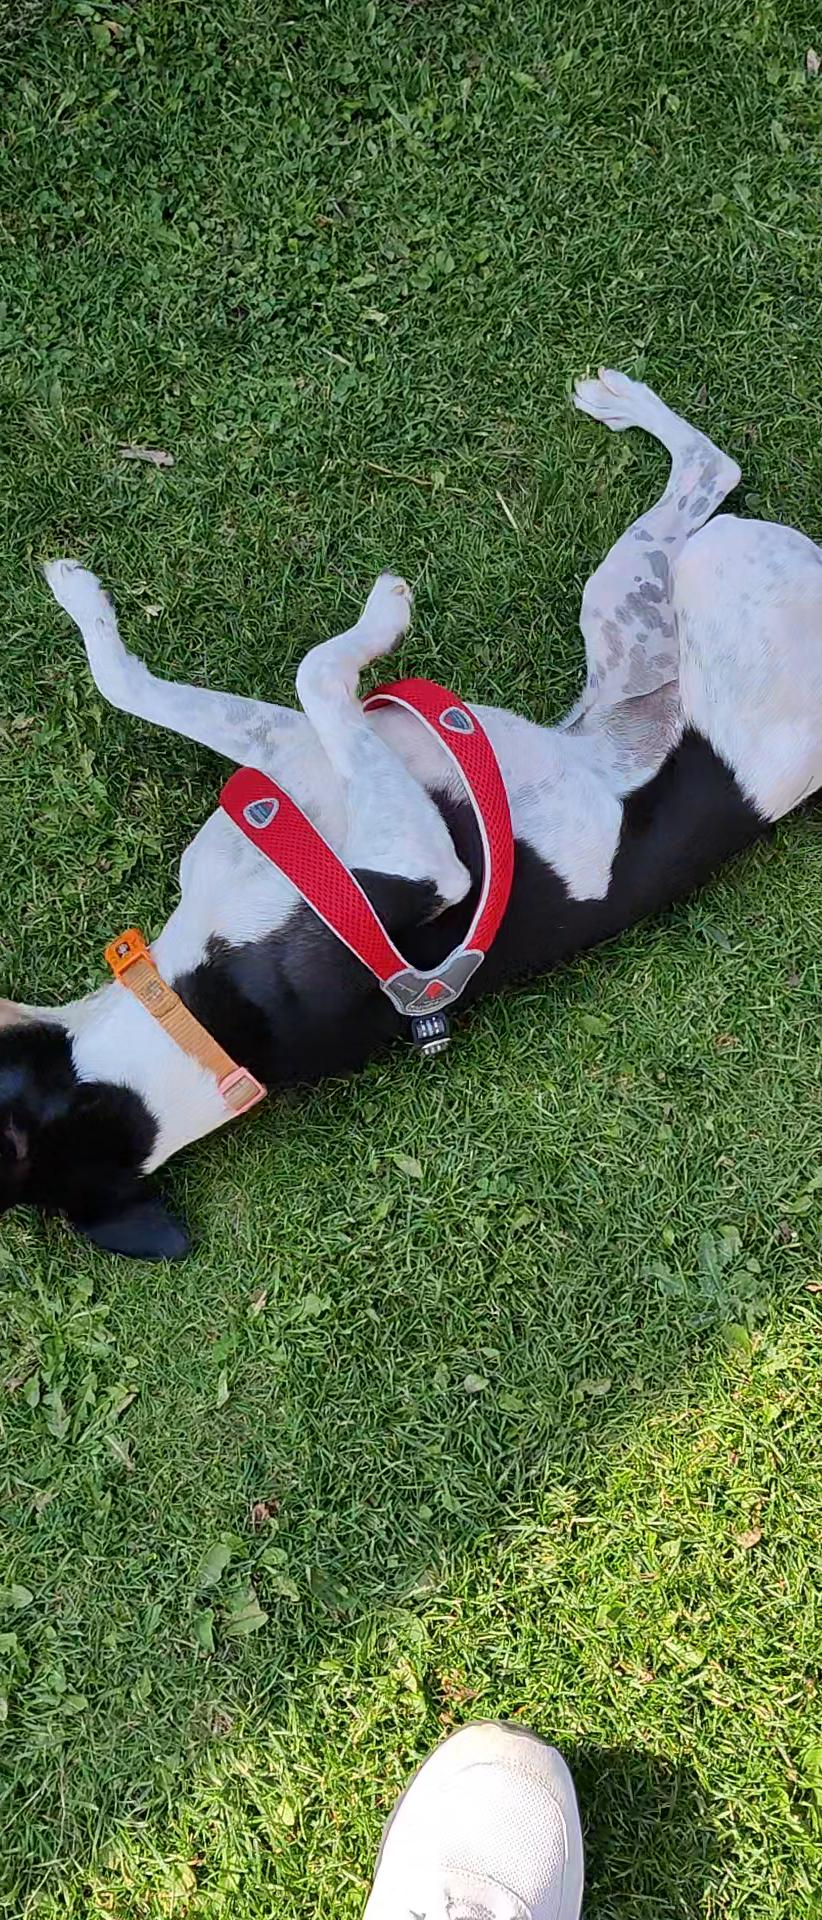Dog: (0, 359, 821, 1264)
